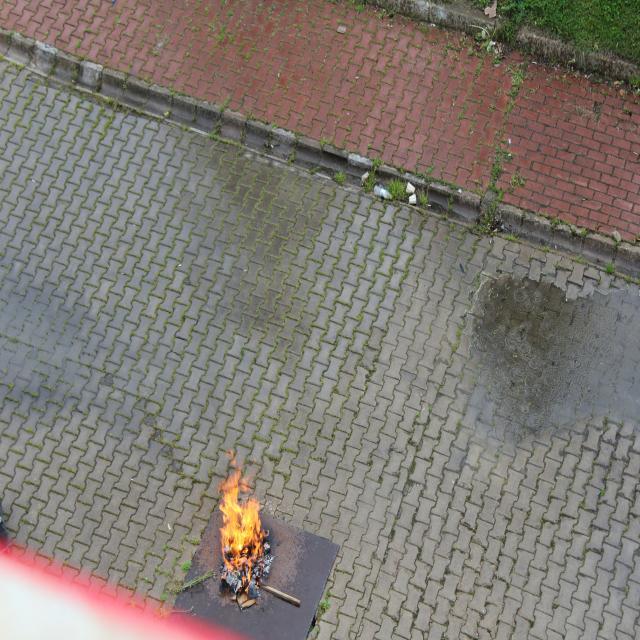fire: (215, 454, 268, 576)
